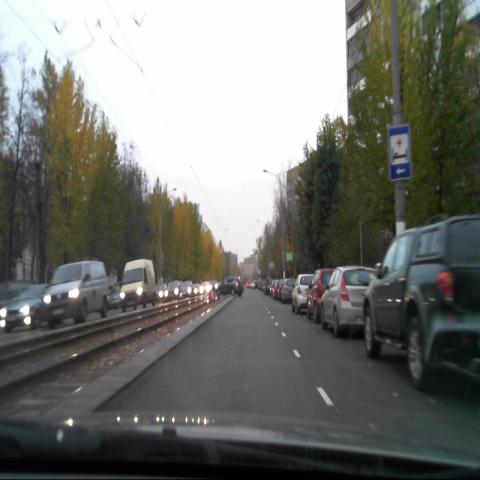7_2: (388, 125, 411, 181)
